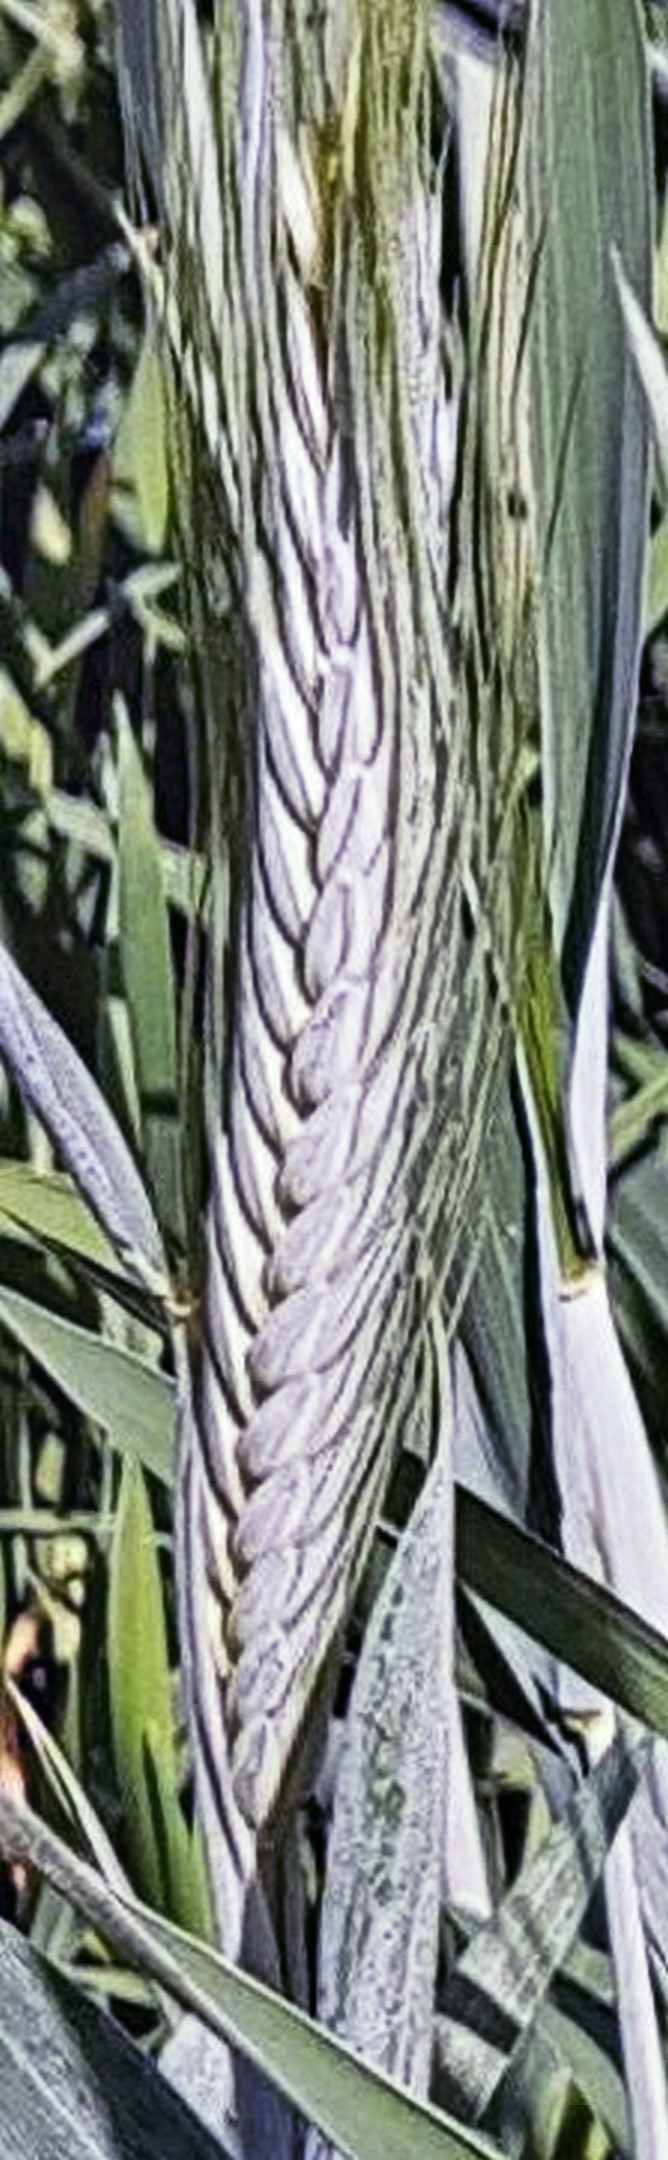Healthy Wheat: (158, 303, 501, 1861)
